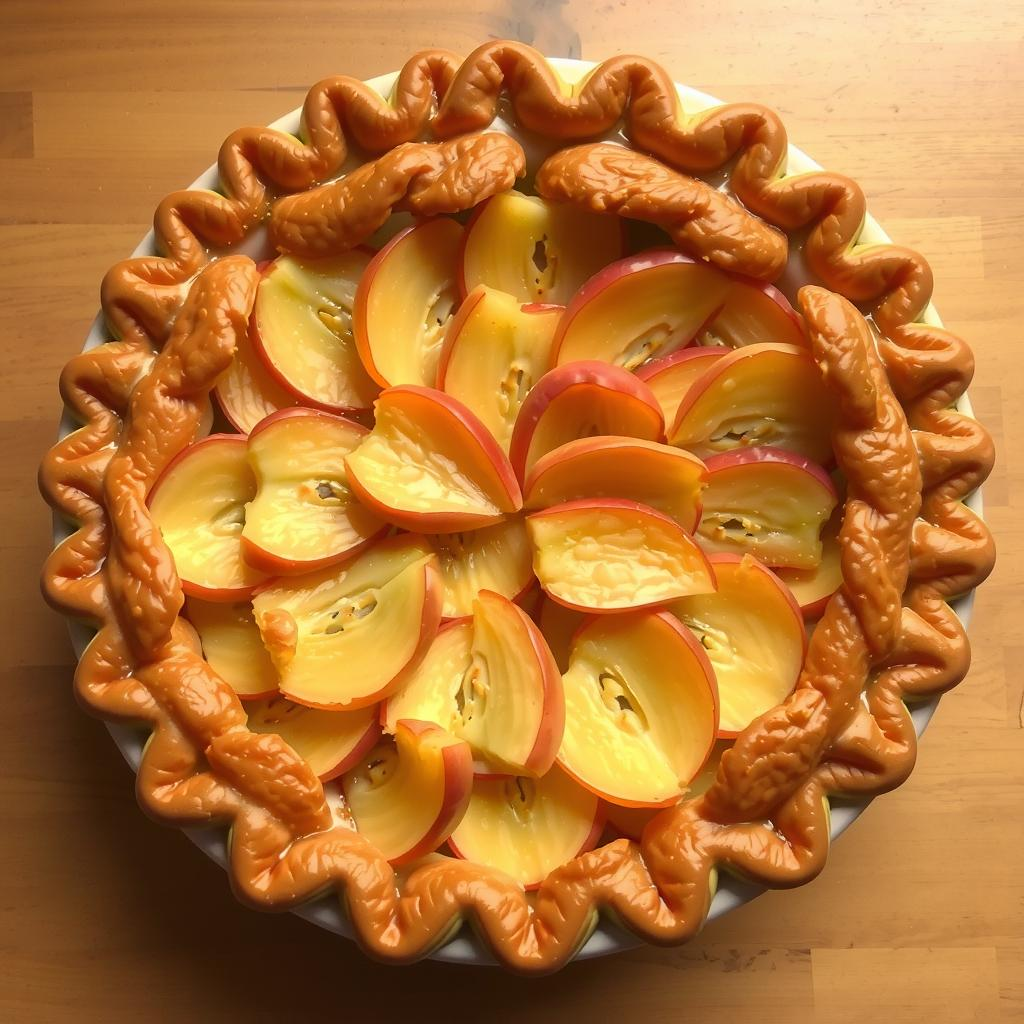pie: (31, 29, 1006, 983)
